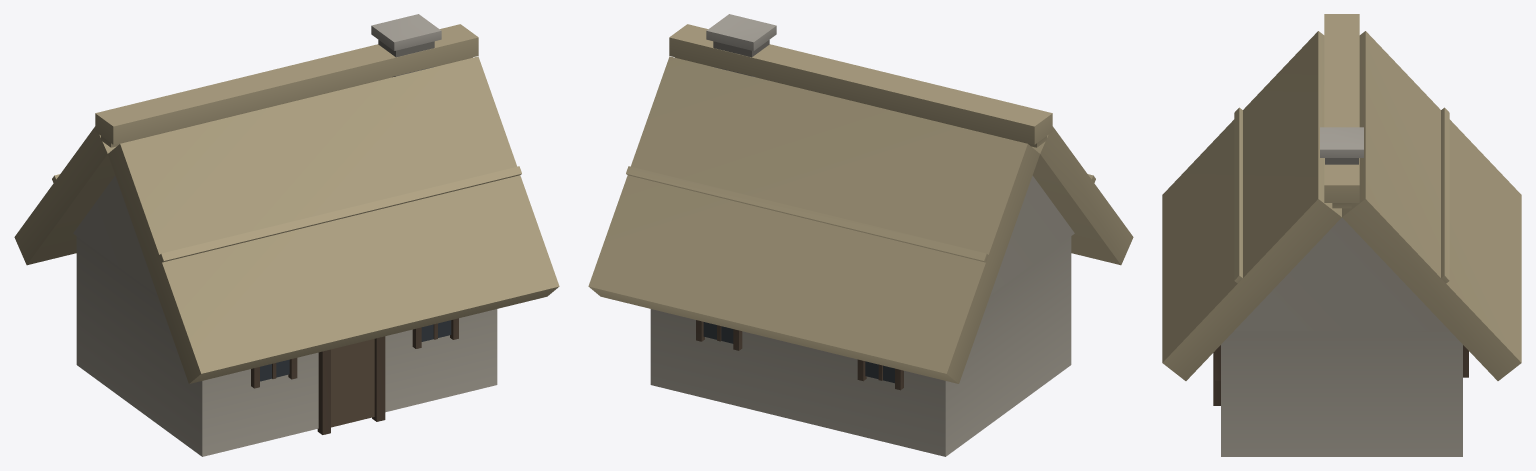
File: house_medieval_0.glb
3 views of the same model, side by side, from view 1: azimuth 30°, elevation 25°; view 2: azimuth 150°, elevation 25°; view 3: azimuth 270°, elevation 25° (orthographic). The views are drawn at different scales.
Parts seen in each view (by area): view 1: Body_Detail, Body_Wall; view 2: Body_Detail, Body_Wall; view 3: Body_Detail, Body_Wall.
Part boxes in pixels (bbox=[...]): Body_Detail: bbox=[14, 14, 559, 434]; Body_Wall: bbox=[73, 175, 497, 456]; Body_Detail: bbox=[588, 14, 1133, 390]; Body_Wall: bbox=[650, 175, 1074, 456]; Body_Detail: bbox=[1162, 14, 1521, 405]; Body_Wall: bbox=[1221, 218, 1462, 456].
Size of the model in its own units: 1.04 by 0.874 by 0.9212.
